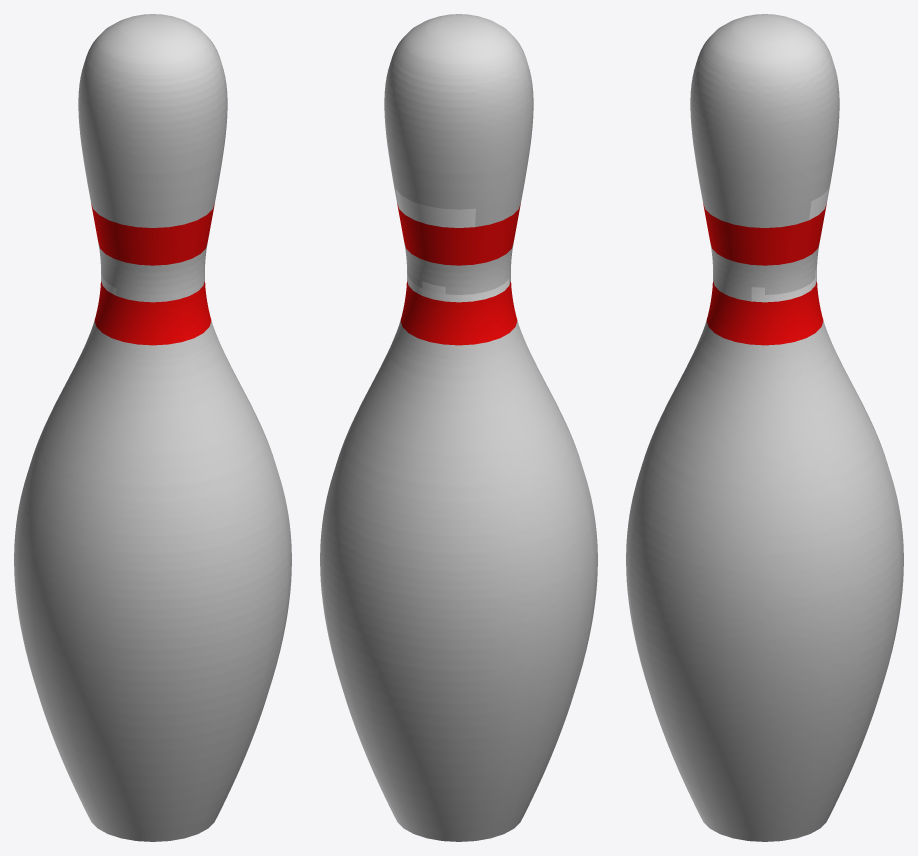
The model's file is bowlingpin.fbx.
3 views of the same model, side by side, from view 1: azimuth 30°, elevation 25°; view 2: azimuth 150°, elevation 25°; view 3: azimuth 270°, elevation 25° (orthographic).
Parts seen in each view (by area): view 1: ID22, Bowling_Pin, ID14, ID28, ID42; view 2: ID22, Bowling_Pin, ID14, ID28, ID42, ID34, ID48; view 3: ID22, Bowling_Pin, ID14, ID28, ID42, ID48.
Part boxes in pixels (x1,y1,x2,y2): ID22: (14, 321, 291, 841); Bowling_Pin: (78, 14, 227, 227); ID14: (94, 281, 211, 345); ID28: (91, 203, 214, 265); ID42: (98, 243, 207, 302); ID22: (320, 321, 597, 841); Bowling_Pin: (384, 14, 533, 226); ID14: (400, 281, 517, 345); ID28: (397, 203, 520, 265); ID42: (404, 243, 513, 294); ID34: (395, 189, 475, 227); ID48: (407, 273, 509, 302); ID22: (626, 321, 903, 841); Bowling_Pin: (690, 14, 839, 227); ID14: (706, 281, 823, 345); ID28: (703, 203, 826, 265); ID42: (710, 243, 819, 301); ID48: (751, 266, 816, 302).
Size of the model in its own units: 4.77 by 4.77 by 14.98.
